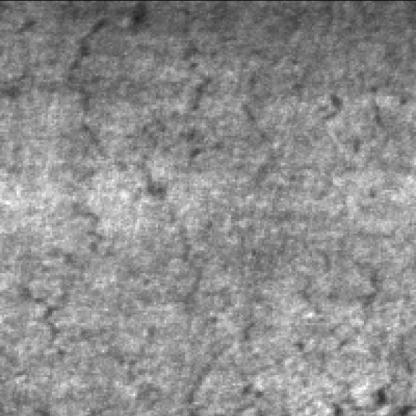crazing: (42, 2, 214, 408), (246, 93, 396, 416)
